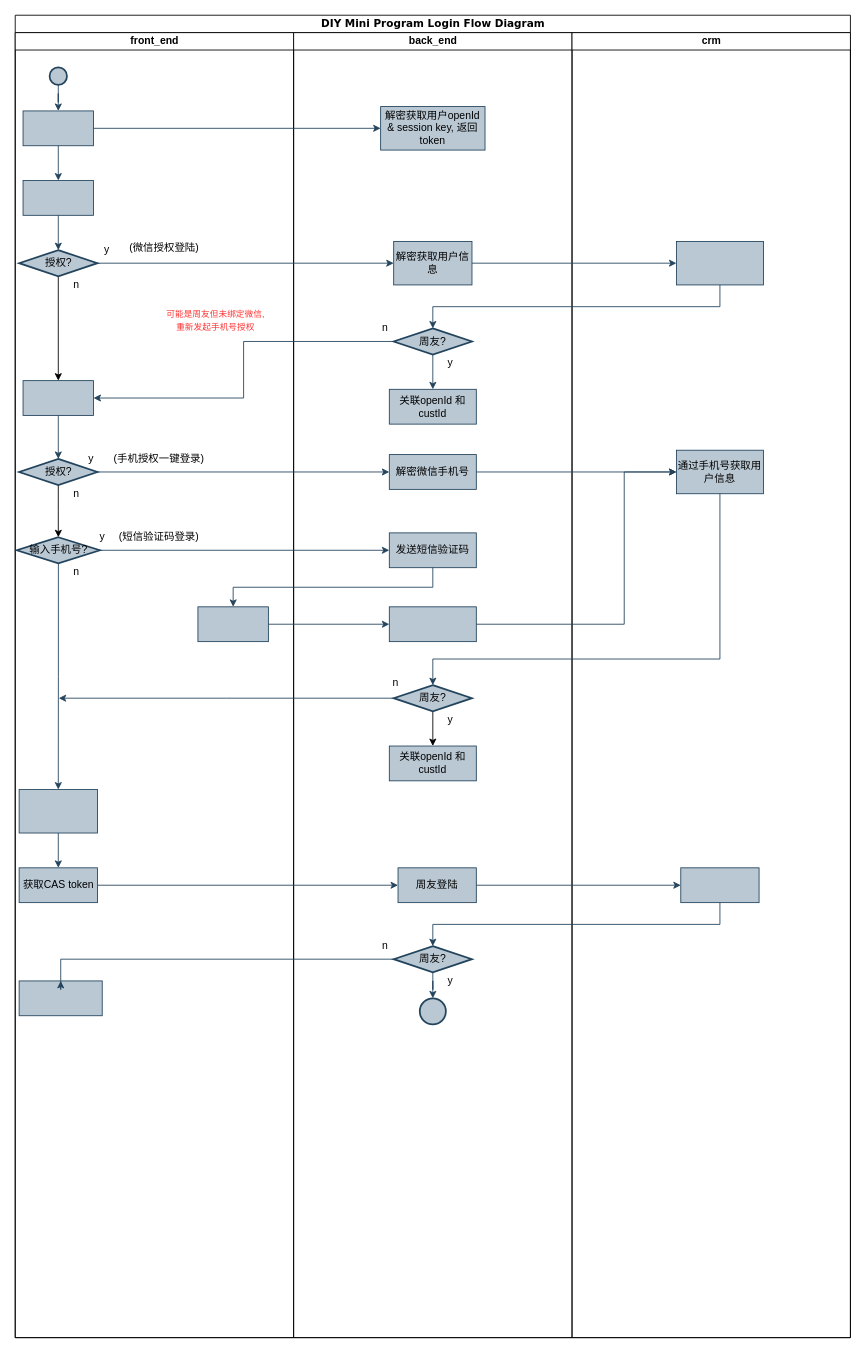
This 866x1353 diagram has some shape labels left out. The centre of each missing label's shape, as x and y in pixels:
发起微信手机号授权: (58,397)
发起微信用户信息授权: (58,197)
周友登陆 (手机 + 密码) / (邮箱 + 密码): (57,811)
根据手机/电邮获取周友信息: (719,885)
注册周友: (60,998)
获取用户登陆凭证: (58,128)
输入短信验证码: (232,624)
通过openId获取用户信息: (719,263)
验证短信验证码: (432,624)
